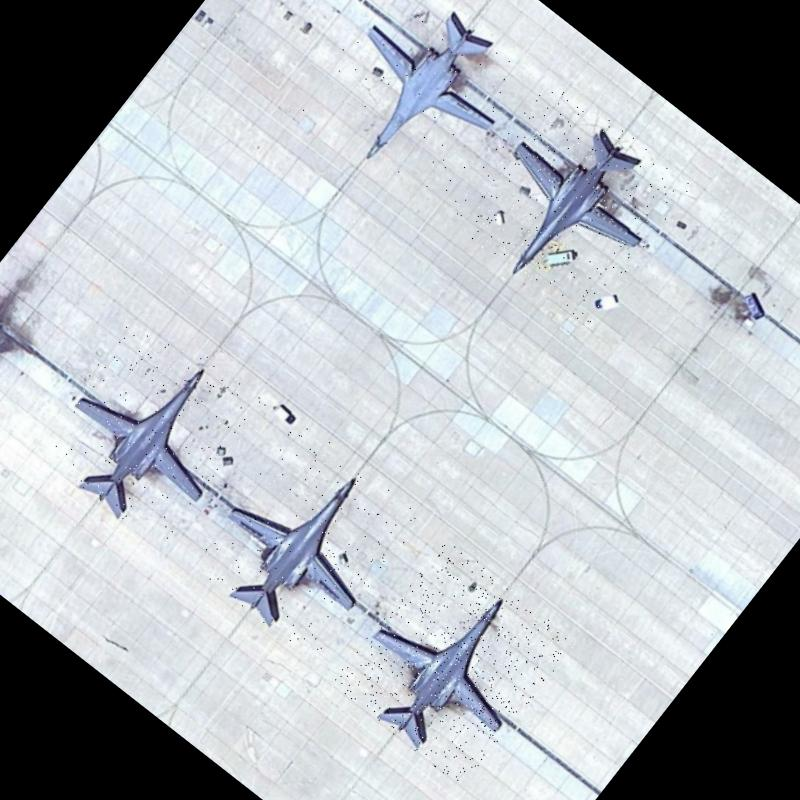A10: (442, 75, 698, 331), (330, 536, 578, 788), (29, 306, 274, 552), (187, 419, 424, 661), (292, 0, 542, 211)
